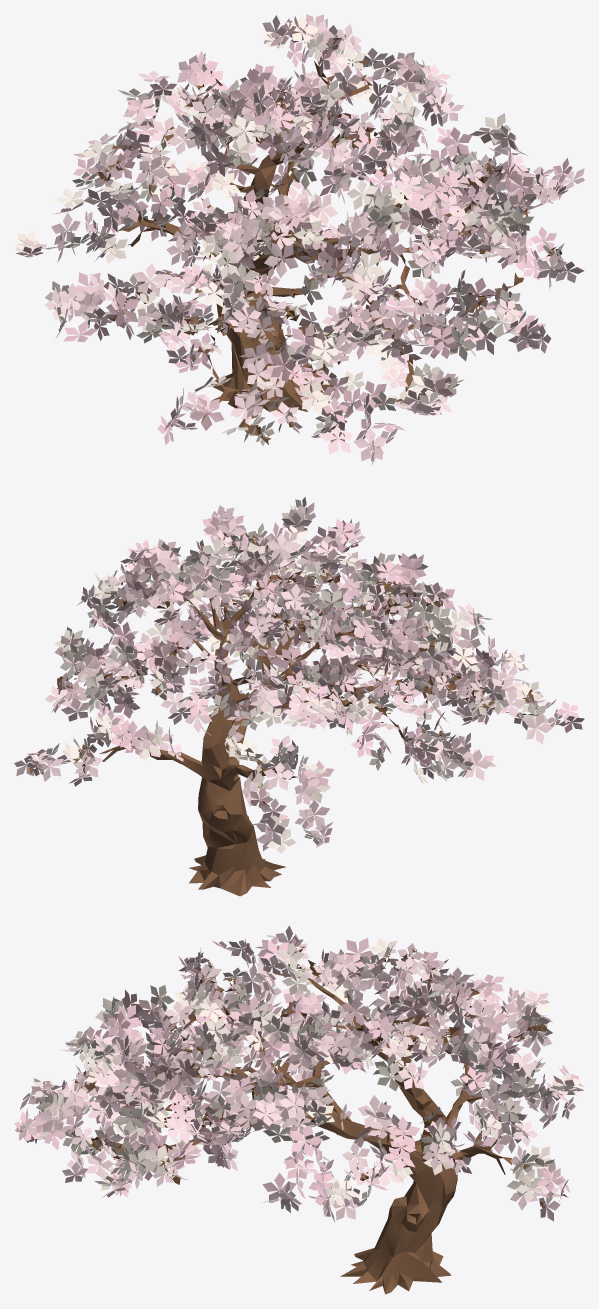
File: CP01-recovered-LOD2.glb
3 renders of one model, top to bottom at view 1: azimuth 30°, elevation 25°; view 2: azimuth 150°, elevation 25°; view 3: azimuth 270°, elevation 25°, orthographic. The views are drawn at different scales.
Visible parts, largest first — view 1: CP01_LOD2_rebuilt_blossoms, CP01_LOD2_bark; view 2: CP01_LOD2_rebuilt_blossoms, CP01_LOD2_bark; view 3: CP01_LOD2_rebuilt_blossoms, CP01_LOD2_bark.
Boxes of the visible parts, <box> form: CP01_LOD2_rebuilt_blossoms: <box>14,14,584,465</box>; CP01_LOD2_bark: <box>98,37,562,444</box>; CP01_LOD2_rebuilt_blossoms: <box>14,497,584,853</box>; CP01_LOD2_bark: <box>29,532,537,896</box>; CP01_LOD2_rebuilt_blossoms: <box>14,925,584,1222</box>; CP01_LOD2_bark: <box>71,946,568,1294</box>.
Bounding box in the file's own units: 12.7 × 8.59 × 13.73.
